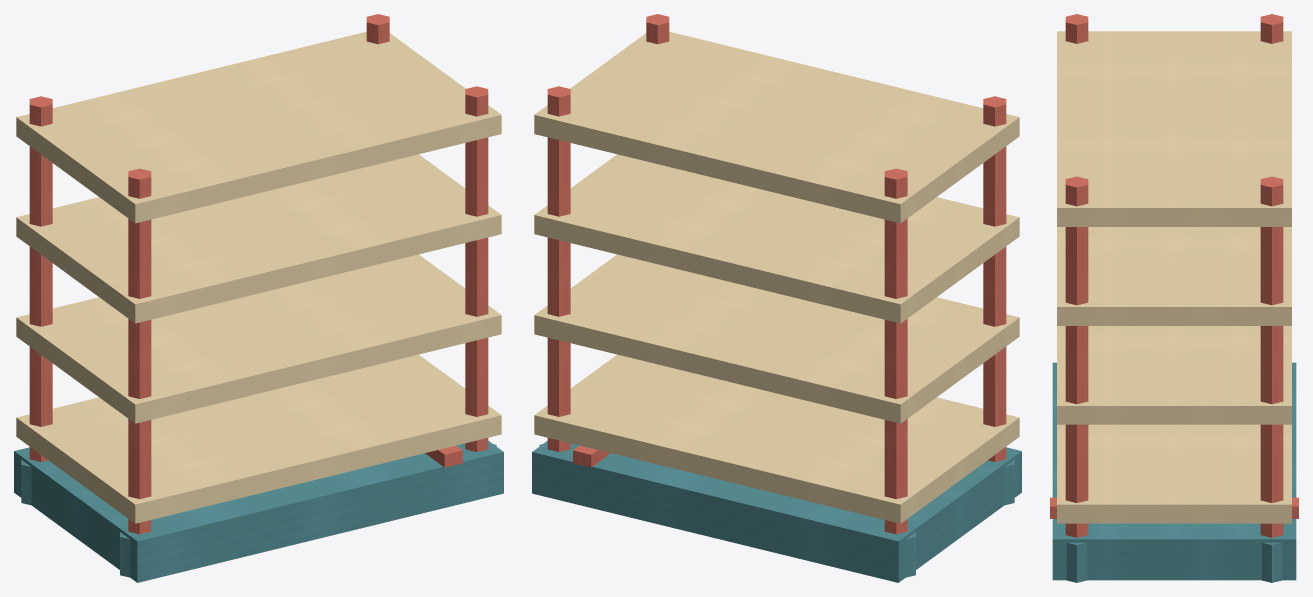
Rendered from atlas100-s076-a06.lod2.glb.
3 views of the same model, side by side, from view 1: azimuth 30°, elevation 25°; view 2: azimuth 150°, elevation 25°; view 3: azimuth 270°, elevation 25° (orthographic).
Visible parts, largest first — view 1: atlas100-s076-a06:part-014, atlas100-s076-a06:part-012, atlas100-s076-a06:part-013, atlas100-s076-a06:part-011, atlas100-s076-a06:part-000, atlas100-s076-a06:part-005, atlas100-s076-a06:part-009, atlas100-s076-a06:part-003, atlas100-s076-a06:part-007; view 2: atlas100-s076-a06:part-014, atlas100-s076-a06:part-012, atlas100-s076-a06:part-013, atlas100-s076-a06:part-011, atlas100-s076-a06:part-000, atlas100-s076-a06:part-003, atlas100-s076-a06:part-007, atlas100-s076-a06:part-005, atlas100-s076-a06:part-009; view 3: atlas100-s076-a06:part-014, atlas100-s076-a06:part-011, atlas100-s076-a06:part-012, atlas100-s076-a06:part-013, atlas100-s076-a06:part-000, atlas100-s076-a06:part-007, atlas100-s076-a06:part-009, atlas100-s076-a06:part-008, atlas100-s076-a06:part-010, atlas100-s076-a06:part-003, atlas100-s076-a06:part-005.
Boxes of the visible parts, x1=… form: atlas100-s076-a06:part-014: x1=16, y1=31, x2=501, y2=223; atlas100-s076-a06:part-012: x1=16, y1=254, x2=501, y2=423; atlas100-s076-a06:part-013: x1=16, y1=154, x2=501, y2=323; atlas100-s076-a06:part-011: x1=16, y1=354, x2=501, y2=523; atlas100-s076-a06:part-000: x1=14, y1=441, x2=503, y2=582; atlas100-s076-a06:part-005: x1=128, y1=168, x2=151, y2=534; atlas100-s076-a06:part-009: x1=465, y1=86, x2=488, y2=451; atlas100-s076-a06:part-003: x1=29, y1=96, x2=52, y2=461; atlas100-s076-a06:part-007: x1=366, y1=14, x2=389, y2=44; atlas100-s076-a06:part-014: x1=534, y1=31, x2=1019, y2=223; atlas100-s076-a06:part-012: x1=534, y1=254, x2=1019, y2=423; atlas100-s076-a06:part-013: x1=534, y1=154, x2=1019, y2=323; atlas100-s076-a06:part-011: x1=534, y1=354, x2=1019, y2=523; atlas100-s076-a06:part-000: x1=532, y1=441, x2=1021, y2=582; atlas100-s076-a06:part-003: x1=884, y1=168, x2=907, y2=534; atlas100-s076-a06:part-007: x1=547, y1=86, x2=570, y2=451; atlas100-s076-a06:part-005: x1=983, y1=96, x2=1006, y2=461; atlas100-s076-a06:part-009: x1=646, y1=14, x2=669, y2=44; atlas100-s076-a06:part-014: x1=1057, y1=31, x2=1291, y2=226; atlas100-s076-a06:part-011: x1=1057, y1=424, x2=1291, y2=523; atlas100-s076-a06:part-012: x1=1057, y1=326, x2=1291, y2=424; atlas100-s076-a06:part-013: x1=1057, y1=227, x2=1291, y2=325; atlas100-s076-a06:part-000: x1=1052, y1=362, x2=1296, y2=580; atlas100-s076-a06:part-007: x1=1260, y1=176, x2=1283, y2=537; atlas100-s076-a06:part-009: x1=1065, y1=176, x2=1088, y2=537; atlas100-s076-a06:part-008: x1=1261, y1=542, x2=1282, y2=582; atlas100-s076-a06:part-010: x1=1066, y1=542, x2=1087, y2=582; atlas100-s076-a06:part-003: x1=1260, y1=14, x2=1283, y2=43; atlas100-s076-a06:part-005: x1=1065, y1=14, x2=1088, y2=43.
Bounding box in the file's own units: 2.47 × 2.48 × 1.43.
3 materials, 3 textured.
